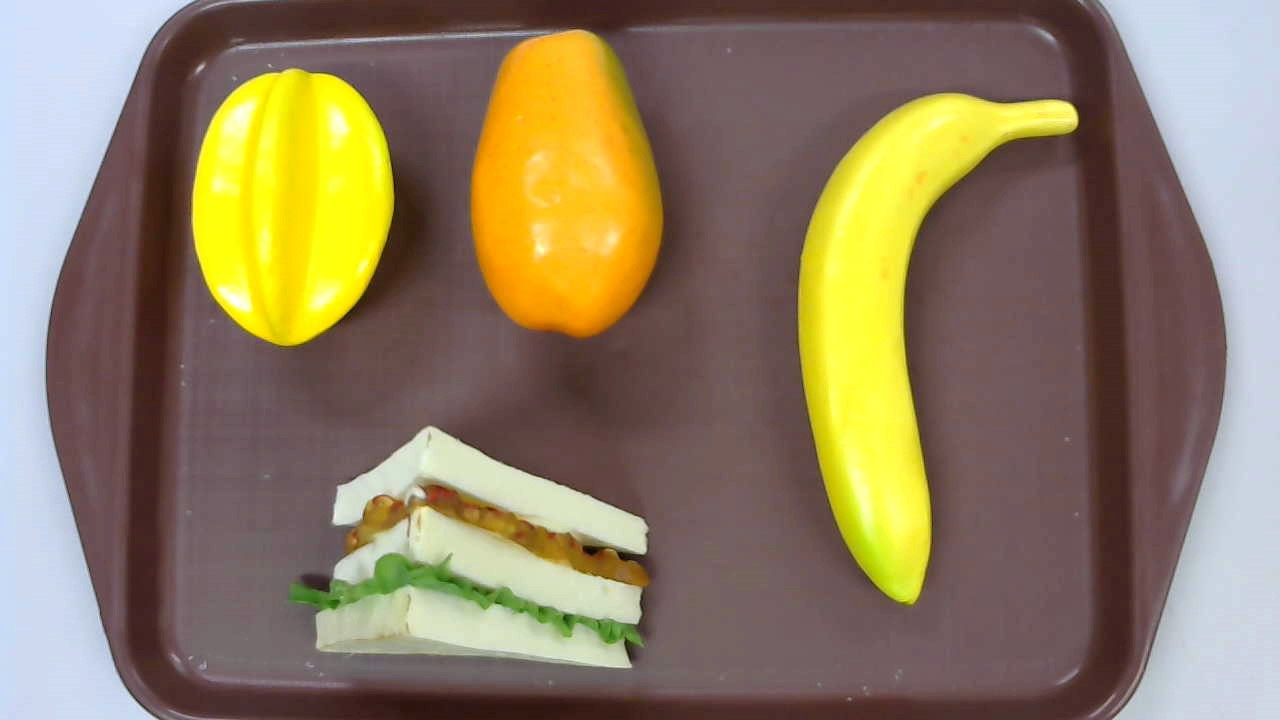banana: (796, 91, 1079, 606)
papya: (470, 29, 665, 338)
sandwich: (285, 424, 651, 669)
star fruit: (192, 68, 394, 347)
